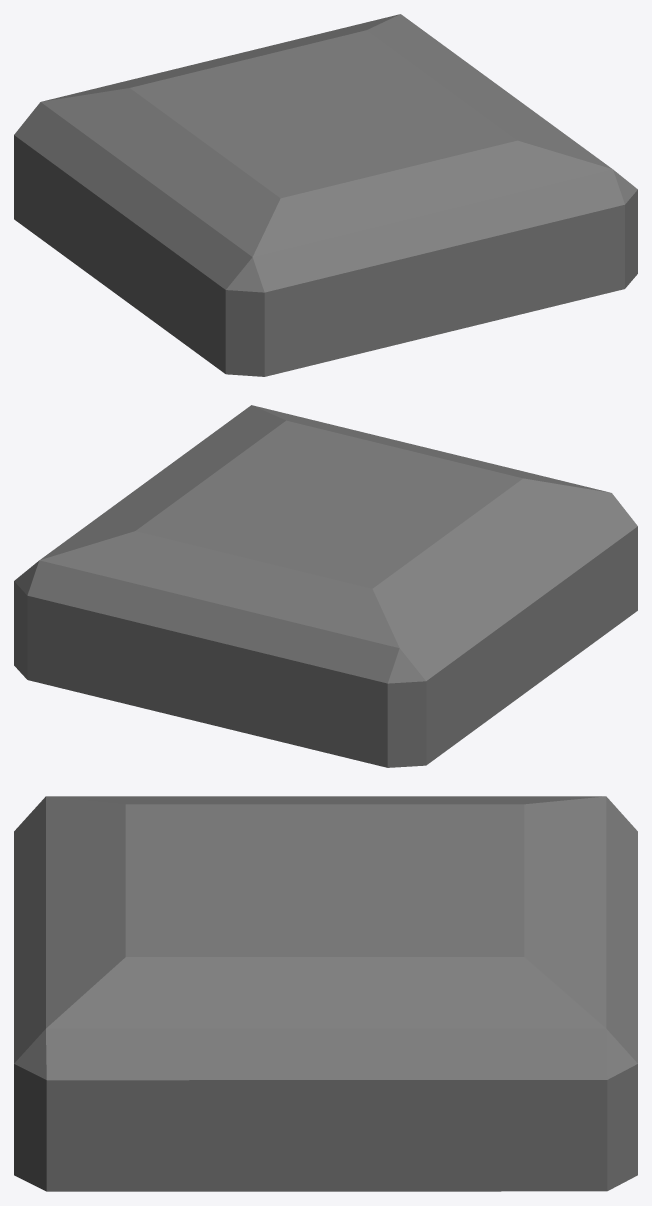
Rendered from foot.obj.
3 views of the same model, one above another, from view 1: azimuth 30°, elevation 25°; view 2: azimuth 150°, elevation 25°; view 3: azimuth 270°, elevation 25° (orthographic). The views are drawn at different scales.
Parts seen in each view (by area): view 1: Rig1; view 2: Rig1; view 3: Rig1.
Part boxes in pixels (bbox=[...]): Rig1: bbox=[14, 14, 637, 376]; Rig1: bbox=[14, 405, 637, 767]; Rig1: bbox=[14, 796, 637, 1191].
Bounding box in the file's own units: 1.01 × 0.312 × 1.
Materials: 1 (1 with a texture image).
